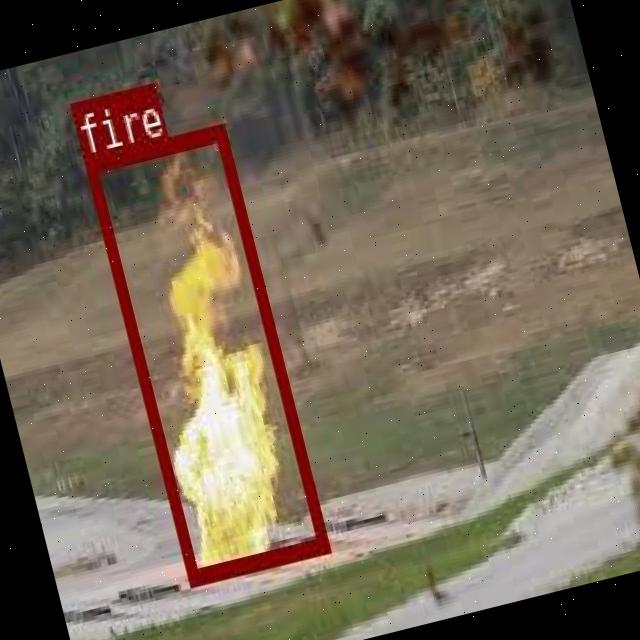fire: (81, 123, 328, 584)
